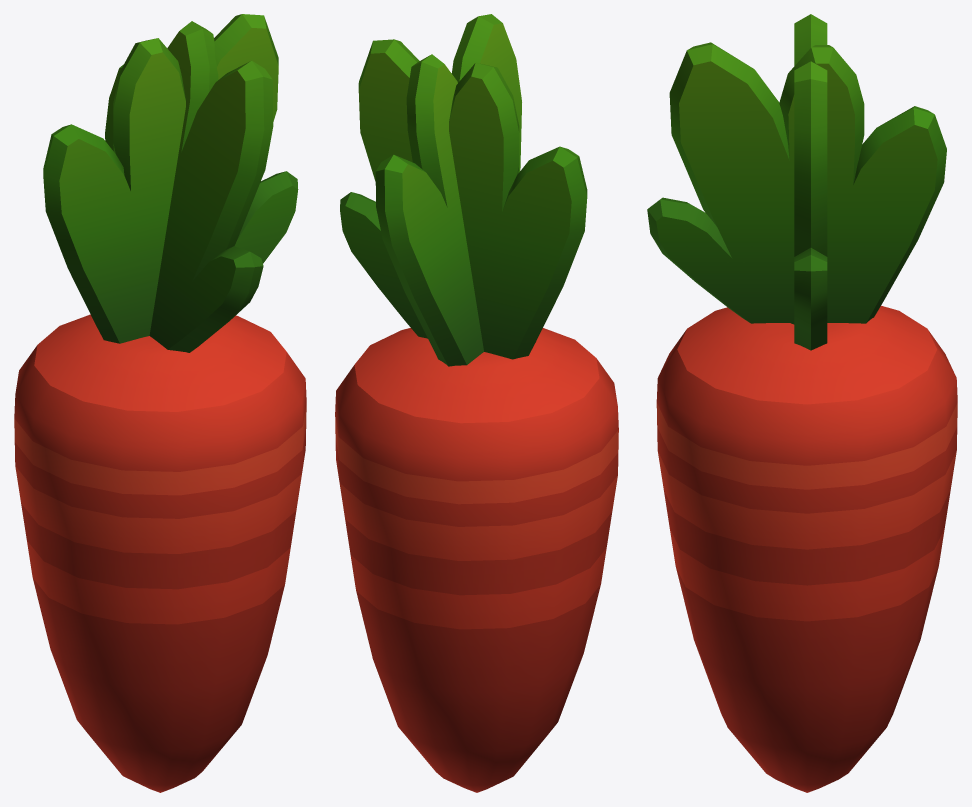
File: Carrot.fbx
3 views of the same model, side by side, from view 1: azimuth 30°, elevation 25°; view 2: azimuth 150°, elevation 25°; view 3: azimuth 270°, elevation 25° (orthographic). The views are drawn at different scales.
Parts seen in each view (by area): view 1: Carrot; view 2: Carrot; view 3: Carrot.
Boxes of the visible parts, x1=… form: Carrot: x1=14, y1=14, x2=306, y2=792; Carrot: x1=335, y1=14, x2=618, y2=792; Carrot: x1=647, y1=14, x2=957, y2=792.
Bounding box in the file's own units: 49.28 × 134 × 48.69.
